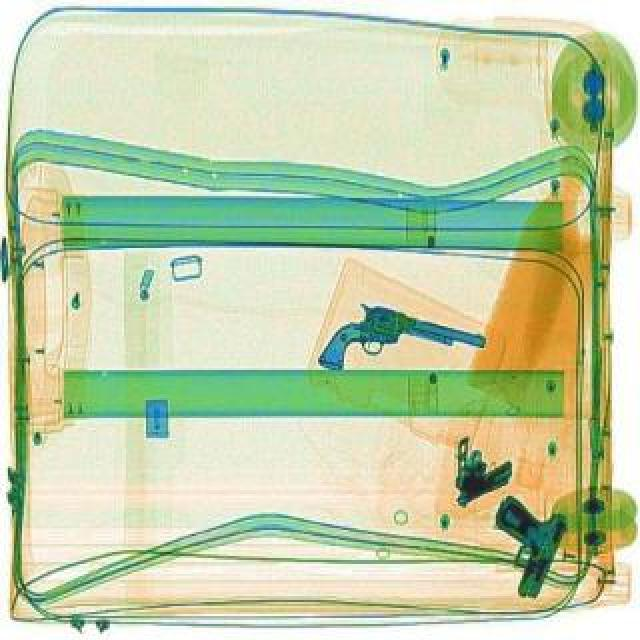gun: (314, 282, 488, 410), (474, 478, 598, 606), (432, 426, 520, 514)
